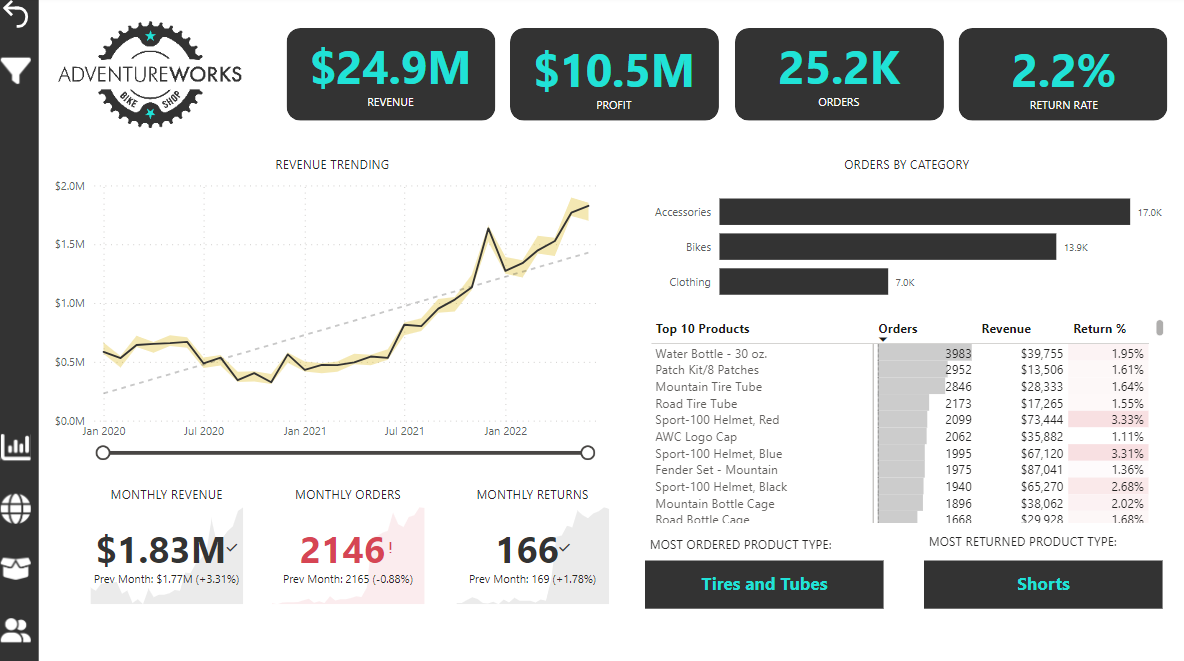

This screenshot's page, from the dashboard's own definition file:
{"tool":"powerbi","page":{"name":"Exact Dashboard","canvas":[1280,720],"ordinal":0},"visuals":[{"type":"image","title":"AW Logo","box":[39.2,0,252.9,172.5],"z":0},{"type":"card","fields":{"Values":["Measure Table.Total Revenue"]},"box":[304.2,15.7,239.6,133.3],"z":0,"group":"g2"},{"type":"group","id":"g1","title":"KPI Background","box":[312.5,35.4,951,100],"z":0,"group":"g3"},{"type":"shape","box":[1038,35.4,225.5,100],"z":0,"group":"g1"},{"type":"actionButton","box":[0,467.6,45.3,40.4],"z":0,"group":"g4"},{"type":"shape","title":"Left Nav Bacground","box":[0,0,45,720],"z":1000},{"type":"group","id":"g2","title":"KPI Values","box":[304.2,15.7,966.7,136.4],"z":1000,"group":"g3"},{"type":"card","fields":{"Values":["Measure Table.Total Profit"]},"box":[545.9,18.7,239.6,133.3],"z":1000,"group":"g2"},{"type":"shape","box":[796.2,35.4,225.5,100],"z":1000,"group":"g1"},{"type":"actionButton","box":[0,533.9,45.3,40.4],"z":1000,"group":"g4"},{"type":"group","id":"g3","title":"KPI","box":[304.2,15.7,966.7,136.4],"z":2000},{"type":"card","fields":{"Values":["Measure Table.Total Orders"]},"box":[787.7,16,239.5,132.7],"z":2000,"group":"g2"},{"type":"shape","box":[554.3,35.4,225.5,100],"z":2000,"group":"g1"},{"type":"actionButton","box":[0,598.7,45.3,40.4],"z":2000,"group":"g4"},{"type":"card","fields":{"Values":["Measure Table.Return Rate"]},"box":[1031.3,18.7,239.6,133.3],"z":3000,"group":"g2"},{"type":"shape","box":[312.5,35.4,225.5,100],"z":3000,"group":"g1"},{"type":"lineChart","title":"REVENUE TRENDING","fields":{"Y":["Measure Table.Total Revenue"],"Category":["Calendar Lookup.Start of Month"]},"box":[56.6,173.1,610,331.7],"z":3000},{"type":"actionButton","box":[0,665,45.3,40.4],"z":3000,"group":"g4"},{"type":"kpi","title":"MONTHLY REVENUE","fields":{"Indicator":["Measure Table.Total Revenue"],"TrendLine":["Calendar Lookup.Start of Month"],"Goal":["Measure Table.Previous Month Revenue"]},"box":[95.5,529.1,174.7,132.7],"z":4000},{"type":"kpi","title":"MONTHLY ORDERS","fields":{"TrendLine":["Calendar Lookup.Start of Month"],"Indicator":["Measure Table.Total Orders"],"Goal":["Measure Table.Previous Month Orders"]},"box":[291.2,529.1,174.7,132.7],"z":5000},{"type":"kpi","title":"MONTHLY RETURNS","fields":{"TrendLine":["Calendar Lookup.Start of Month"],"Indicator":["Measure Table.Total Returns"],"Goal":["Measure Table.Previous Month Returns"]},"box":[490.2,529.1,174.7,132.7],"z":6000},{"type":"clusteredBarChart","title":"ORDERS BY CATEGORY","fields":{"Category":["Product Categories Lookup.CategoryName"],"Y":["Measure Table.Total Orders"]},"box":[699,173.1,564.7,171.5],"z":7000},{"type":"pivotTable","fields":{"Rows":["Product Lookup.ProductName"],"Values":["Measure Table.Total Orders","Measure Table.Total Revenue","Measure Table.Return Rate"]},"box":[700.6,344.6,563.1,229.8],"z":8000},{"type":"card","fields":{"Values":["Min(Product Subcategories Lookup.SubcategoryName)"]},"box":[699,610,257.3,51.8],"z":9000},{"type":"card","fields":{"Values":["Min(Product Subcategories Lookup.SubcategoryName)"]},"box":[999.9,610,257.3,51.8],"z":10000},{"type":"textbox","box":[699,577.6,247.6,35.6],"z":11000},{"type":"textbox","box":[999.9,574.4,257.3,35.6],"z":12000},{"type":"actionButton","box":[0,0,45.3,40.4],"z":13000},{"type":"group","id":"g4","title":"Navigation Buttons","box":[0,467.6,45.3,237.8],"z":14000},{"type":"actionButton","box":[0,61.5,45.3,40.4],"z":15000}]}

Visuals, with their boxes on the page's 1280x720 design canvas (x1, y1, x2, y2). These are canvas units, not pixel positions in the 1184x661 screenshot, which may show the page scaled, cropped or inside an application window:
"AW Logo" image: bbox=[39, 0, 292, 172]
card - Measure Table.Total Revenue: bbox=[304, 16, 544, 149]
"KPI Background" group: bbox=[312, 35, 1264, 135]
shape: bbox=[1038, 35, 1264, 135]
actionButton: bbox=[0, 468, 45, 508]
"Left Nav Bacground" shape: bbox=[0, 0, 45, 720]
"KPI Values" group: bbox=[304, 16, 1271, 152]
card - Measure Table.Total Profit: bbox=[546, 19, 786, 152]
shape: bbox=[796, 35, 1022, 135]
actionButton: bbox=[0, 534, 45, 574]
"KPI" group: bbox=[304, 16, 1271, 152]
card - Measure Table.Total Orders: bbox=[788, 16, 1027, 149]
shape: bbox=[554, 35, 780, 135]
actionButton: bbox=[0, 599, 45, 639]
card - Measure Table.Return Rate: bbox=[1031, 19, 1271, 152]
shape: bbox=[312, 35, 538, 135]
"REVENUE TRENDING" lineChart: bbox=[57, 173, 667, 505]
actionButton: bbox=[0, 665, 45, 705]
"MONTHLY REVENUE" kpi: bbox=[96, 529, 270, 662]
"MONTHLY ORDERS" kpi: bbox=[291, 529, 466, 662]
"MONTHLY RETURNS" kpi: bbox=[490, 529, 665, 662]
"ORDERS BY CATEGORY" clusteredBarChart: bbox=[699, 173, 1264, 345]
pivotTable - Product Lookup.ProductName x Measure Table.Total Orders: bbox=[701, 345, 1264, 574]
card - Min(Product Subcategories Lookup.SubcategoryName): bbox=[699, 610, 956, 662]
card - Min(Product Subcategories Lookup.SubcategoryName): bbox=[1000, 610, 1257, 662]
textbox: bbox=[699, 578, 947, 613]
textbox: bbox=[1000, 574, 1257, 610]
actionButton: bbox=[0, 0, 45, 40]
"Navigation Buttons" group: bbox=[0, 468, 45, 705]
actionButton: bbox=[0, 62, 45, 102]
